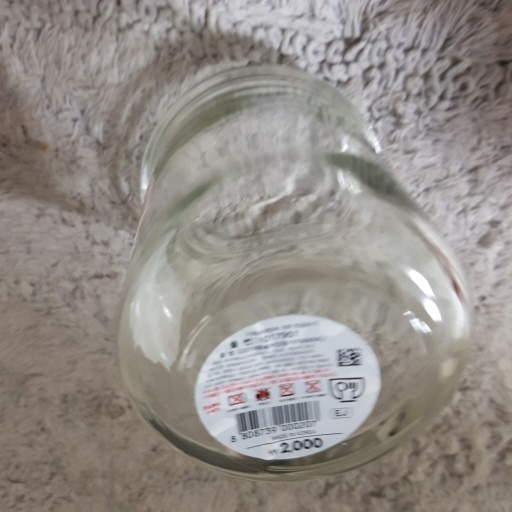Glass_5: (106, 71, 475, 480)
